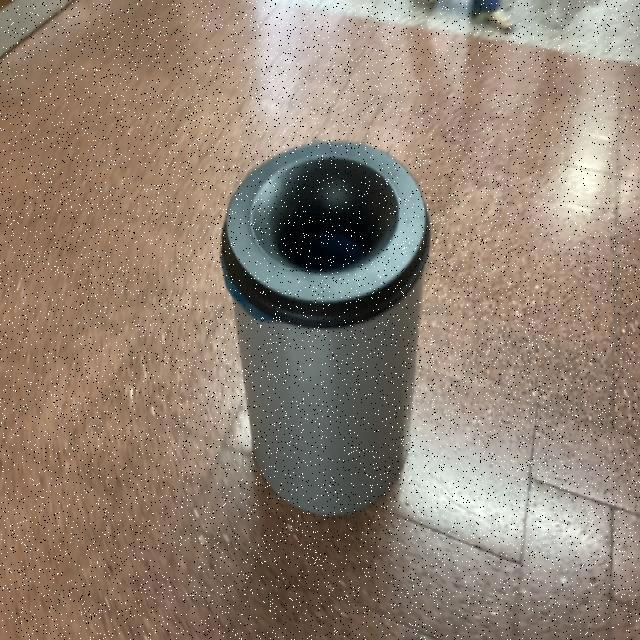garbage container: (175, 107, 448, 528)
